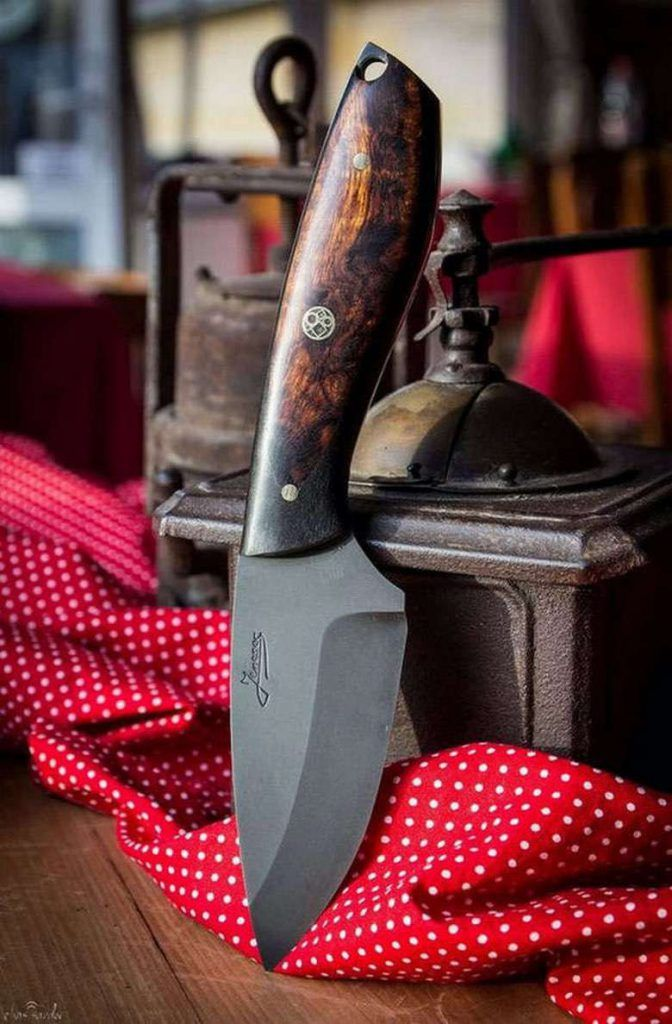knife: (206, 29, 465, 978)
